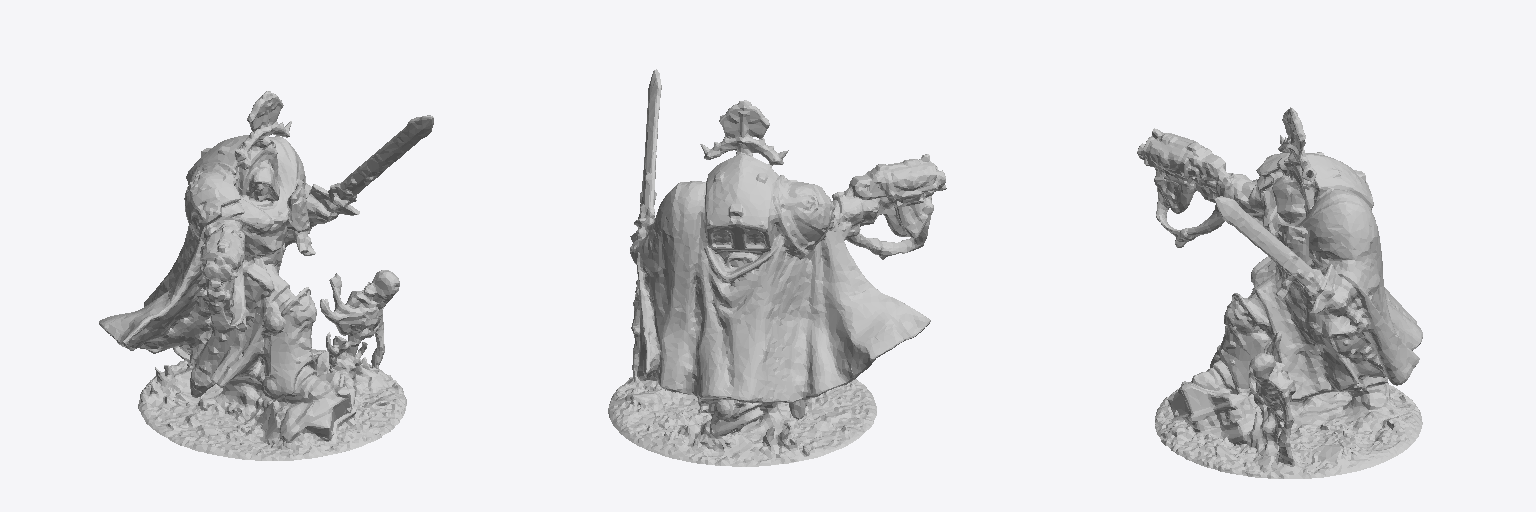
The model's file is Beliel.obj.
The picture shows the model from 3 angles: view 1: azimuth 30°, elevation 25°; view 2: azimuth 150°, elevation 25°; view 3: azimuth 270°, elevation 25°; orthographic projection.
Parts seen in each view (by area): view 1: Beliel; view 2: Beliel; view 3: Beliel.
Part boxes in pixels (left/top/right/bottom): Beliel: left=99, top=91, right=433, bottom=460; Beliel: left=608, top=69, right=946, bottom=466; Beliel: left=1137, top=107, right=1422, bottom=478.
Bounding box in the file's own units: 2.34 × 2.36 × 1.96.